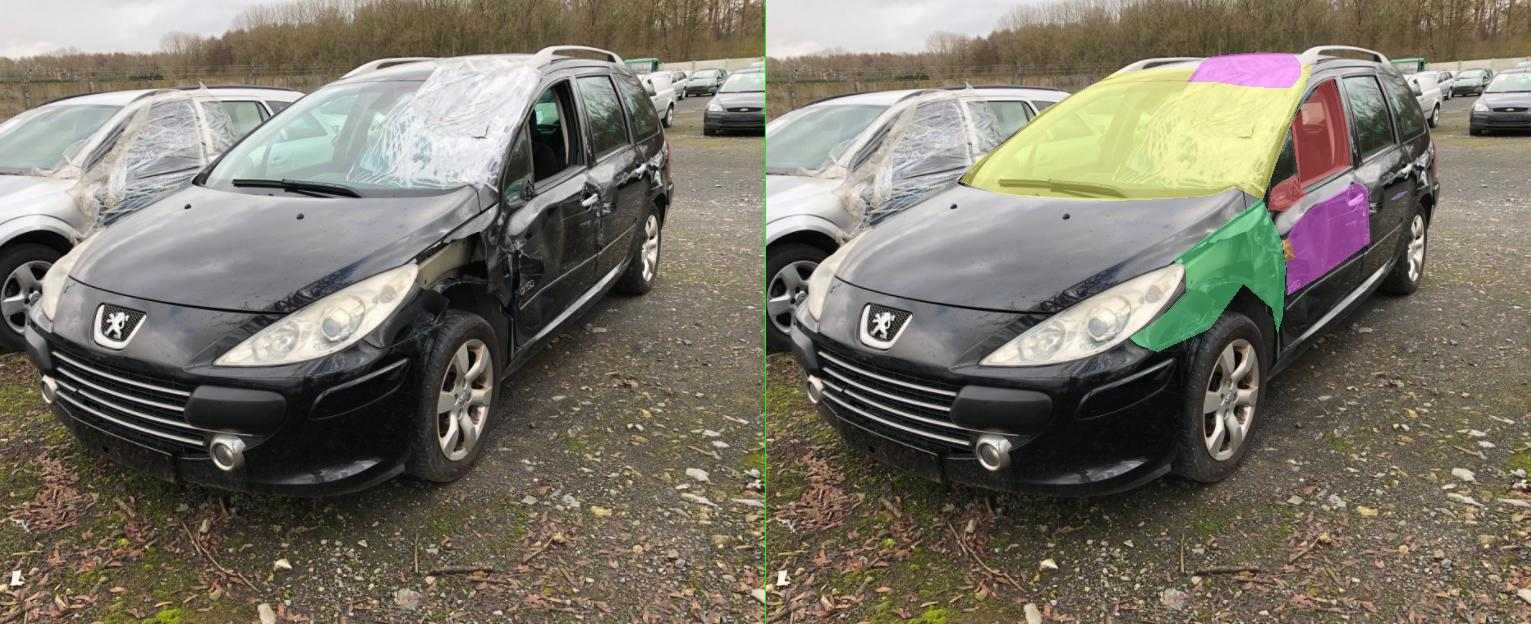Broken part: (728, 198, 1039, 351)
Cracked: (386, 65, 1093, 200)
Dent: (1039, 183, 1207, 294), (843, 52, 1069, 87)
Missing part: (1051, 78, 1169, 188), (1005, 175, 1083, 210)
Paint chip: (1033, 239, 1057, 261)
Scratch: (1119, 205, 1187, 219), (1251, 191, 1283, 199), (1157, 218, 1189, 226)
